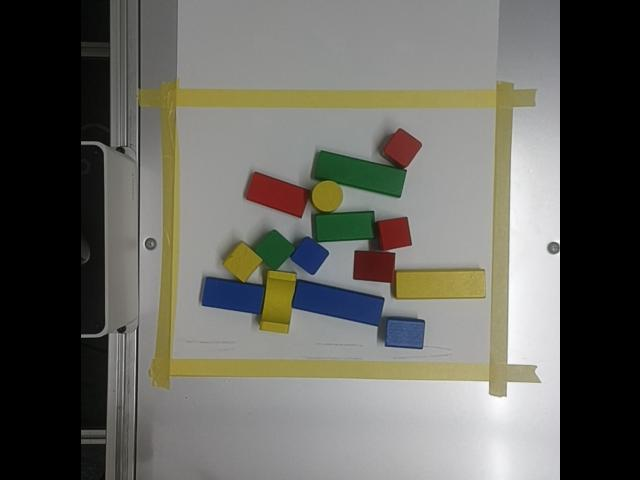blue_cube: (290, 237, 328, 274)
blue_longrect: (292, 280, 383, 326)
blue_rect: (201, 277, 263, 314)
cylinder: (310, 180, 342, 211)
green_cube: (253, 230, 294, 269)
green_longrect: (312, 150, 406, 197)
green_rect: (313, 213, 374, 242)
half_cylinder: (384, 317, 424, 349)
red_cube: (380, 128, 421, 168)
red_rect: (245, 172, 309, 217)
triangle: (354, 252, 394, 282), (376, 217, 411, 250)
yellow_archrect: (259, 271, 295, 333)
yellow_cube: (222, 241, 262, 281)
yellow_longrect: (395, 269, 485, 298)
